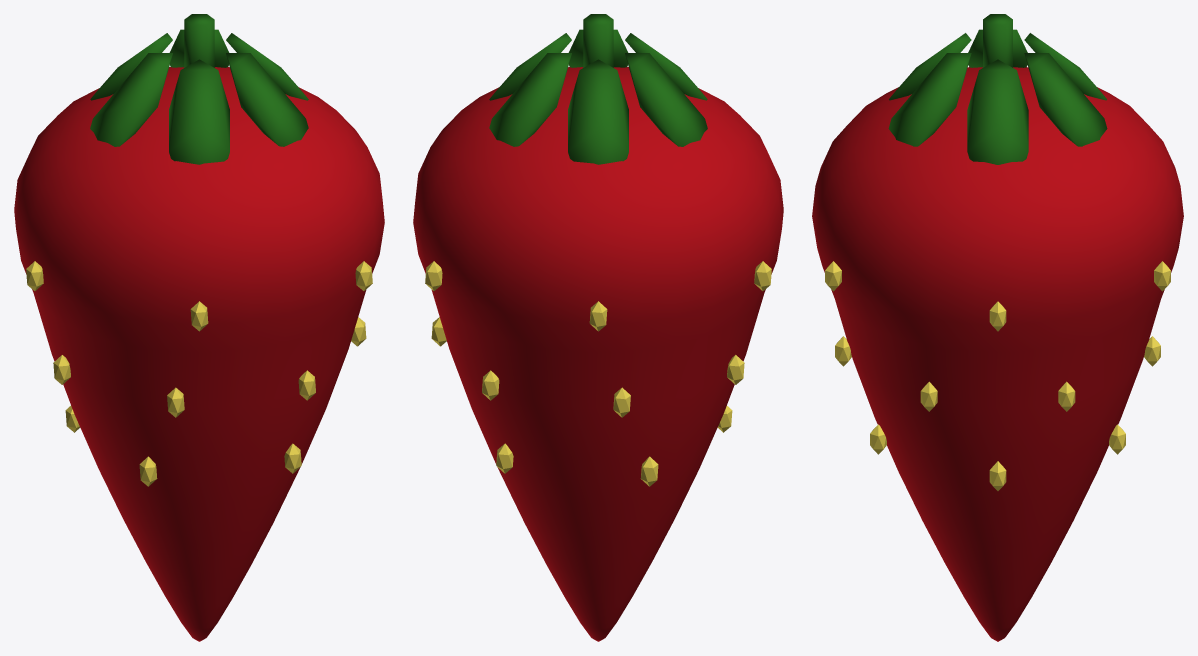
Rendered from strawberry.fbx.
The picture shows the model from 3 angles, left to right: view 1: azimuth 30°, elevation 25°; view 2: azimuth 150°, elevation 25°; view 3: azimuth 270°, elevation 25°; orthographic projection.
Visible parts, largest first — view 1: strawberry; view 2: strawberry; view 3: strawberry.
Boxes of the visible parts, box(x1,y1,x2,y2) form: strawberry: box(14, 14, 384, 641); strawberry: box(413, 14, 783, 641); strawberry: box(812, 14, 1183, 641).
Bounding box in the file's own units: 57.91 × 100 × 54.15.
Materials: 1 (1 with a texture image).
